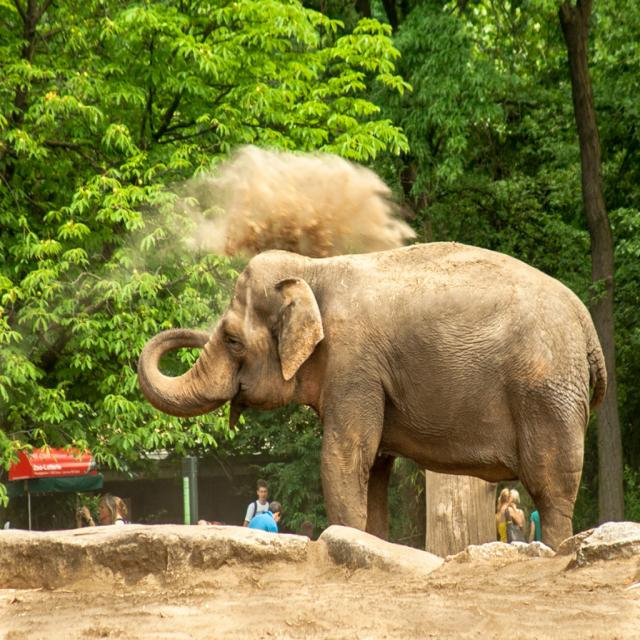Elephant: (137, 240, 607, 551)
